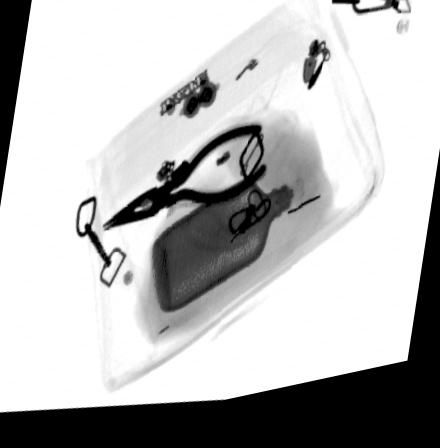Pliers: (102, 131, 268, 235)
